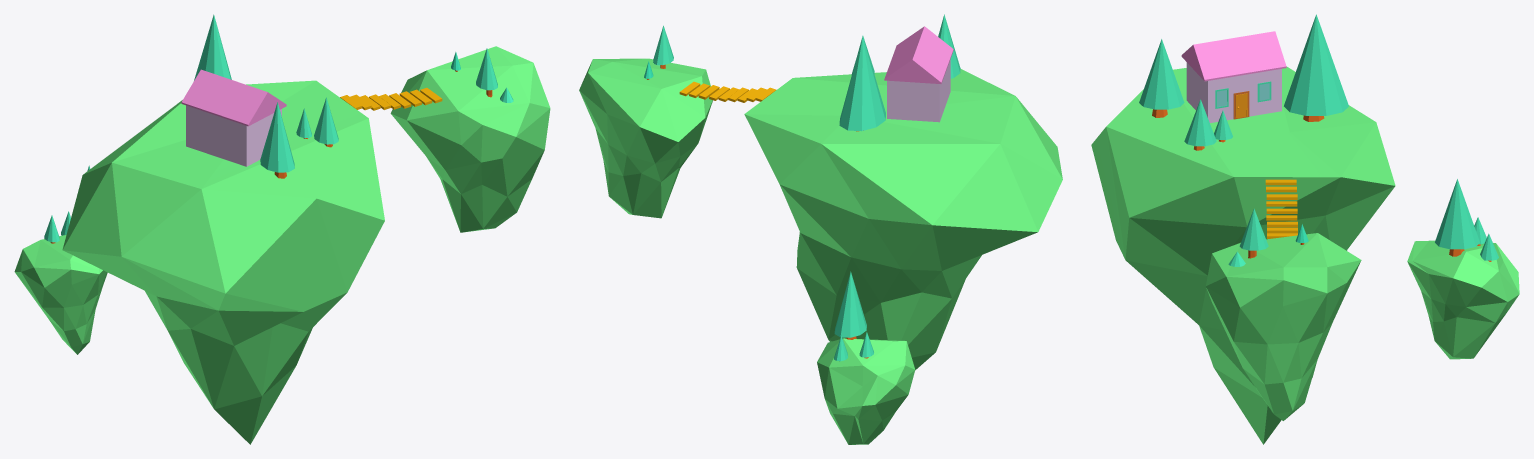
Rendered from bitmishaliabsurt.fbx.
The picture shows the model from 3 angles, left to right: view 1: azimuth 30°, elevation 25°; view 2: azimuth 150°, elevation 25°; view 3: azimuth 270°, elevation 25°; orthographic projection. The views are drawn at different scales.
Visible parts, largest first — view 1: Icosphere, Cube.004, Cube.005, Cone.012, Cube.033, Cone.011, Cone.013, Cone.005; view 2: Icosphere, Cube.005, Cone.011, Cube.004, Cone.010, Cube.033, Cone.012, Cone.005; view 3: Icosphere, Cone.011, Cube.005, Cube.004, Cone.010, Cone.012, Cube.033, Cone.013, Cone.005.
Boxes of the visible parts, box(x1,y1,x2,y2) form: Icosphere: box(14, 46, 550, 444); Cube.004: box(186, 105, 281, 166); Cube.005: box(181, 69, 286, 126); Cone.012: box(260, 102, 294, 172); Cube.033: box(340, 87, 442, 110); Cone.011: box(194, 14, 231, 80); Cone.013: box(314, 97, 338, 144); Cone.005: box(476, 48, 497, 90); Icosphere: box(579, 58, 1062, 444); Cube.005: box(884, 26, 953, 83); Cone.011: box(839, 35, 885, 131); Cube.004: box(887, 59, 950, 122); Cone.010: box(834, 271, 866, 337); Cube.033: box(679, 81, 776, 102); Cone.012: box(938, 14, 960, 78); Cone.005: box(653, 25, 673, 65); Icosphere: box(1091, 66, 1519, 444); Cone.011: box(1284, 14, 1348, 115); Cube.005: box(1181, 31, 1286, 81); Cube.004: box(1186, 62, 1281, 122); Cone.010: box(1435, 179, 1479, 249); Cone.012: box(1139, 39, 1184, 109); Cube.033: box(1265, 179, 1297, 238); Cone.013: box(1184, 99, 1216, 146); Cone.005: box(1239, 208, 1268, 250).
Size of the model in its own units: 19021 by 15934 by 14534.
